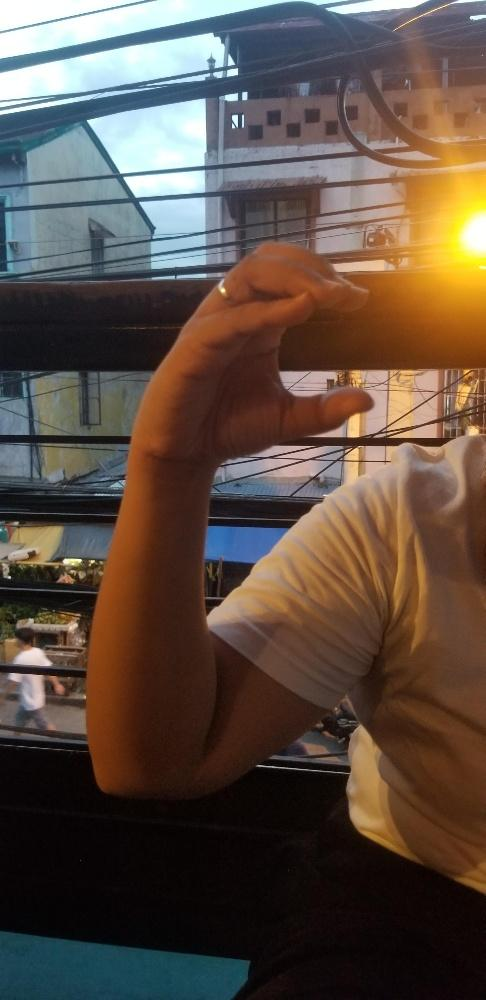c: (132, 236, 378, 463)
